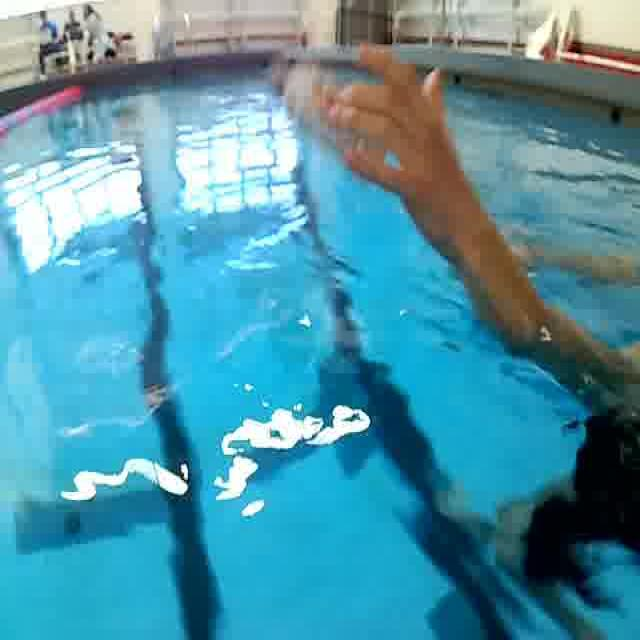Bottle: (261, 42, 392, 181)
